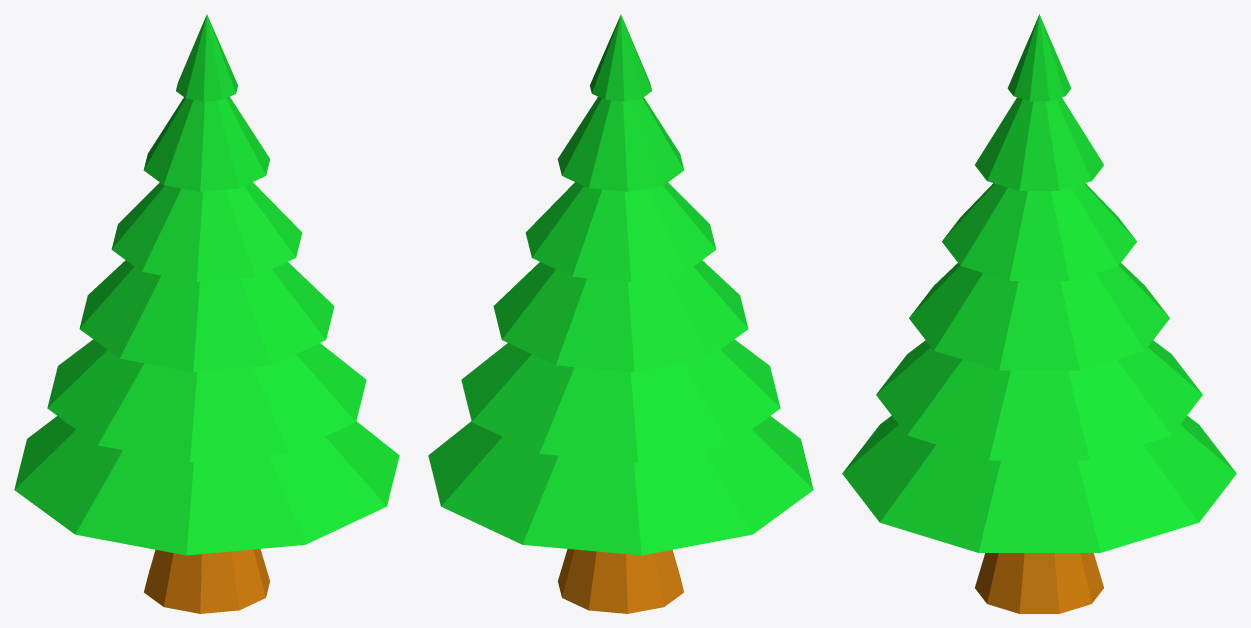
Rendered from tree.glb.
3 views of the same model, side by side, from view 1: azimuth 30°, elevation 25°; view 2: azimuth 150°, elevation 25°; view 3: azimuth 270°, elevation 25° (orthographic).
Parts seen in each view (by area): view 1: Cylinder, Cylinder.001; view 2: Cylinder, Cylinder.001; view 3: Cylinder, Cylinder.001.
Part boxes in pixels (x1=…): Cylinder: x1=14, y1=14, x2=399, y2=555; Cylinder.001: x1=144, y1=549, x2=269, y2=613; Cylinder: x1=428, y1=14, x2=813, y2=555; Cylinder.001: x1=558, y1=549, x2=683, y2=613; Cylinder: x1=842, y1=14, x2=1236, y2=552; Cylinder.001: x1=975, y1=553, x2=1103, y2=613.
Size of the model in its own units: 7.77 by 13.11 by 8.17.
